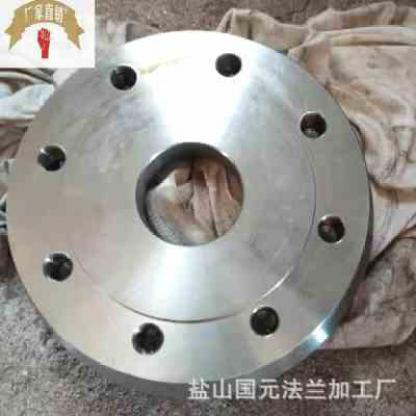FOD: (2, 23, 381, 400)
